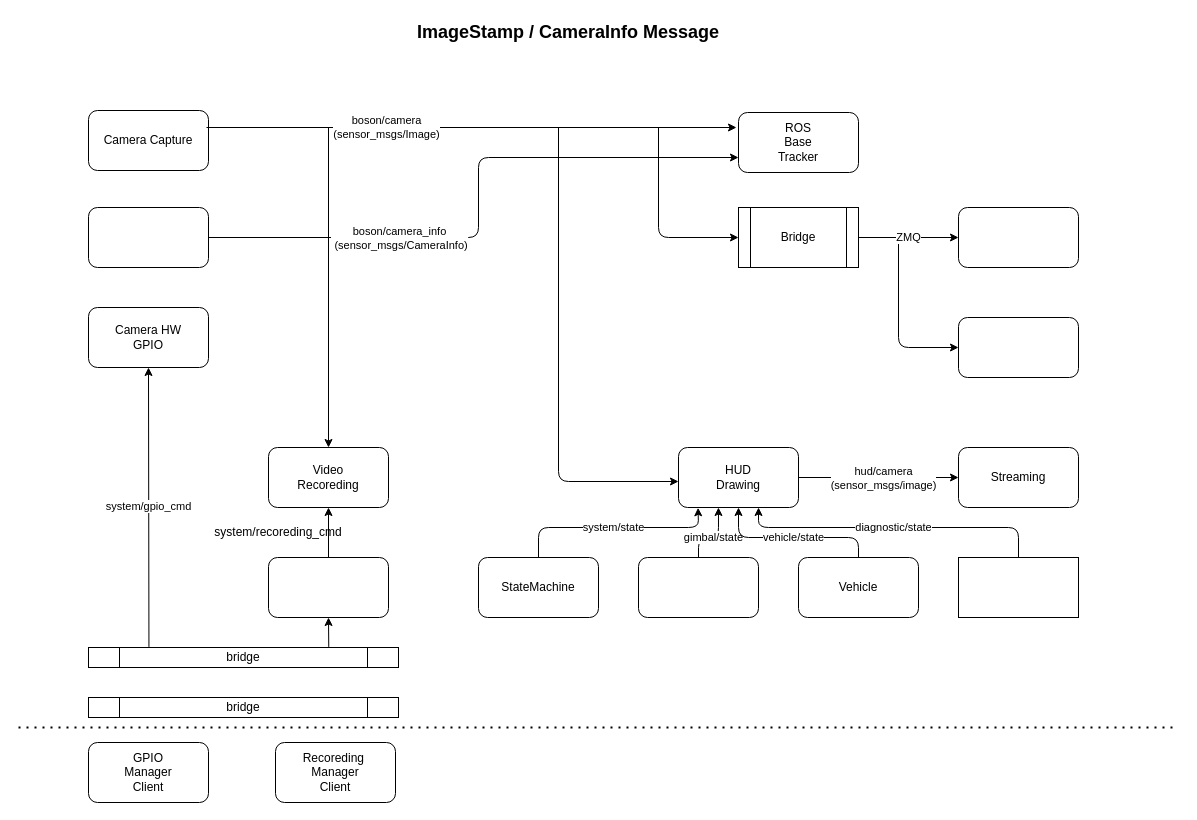
Image size: 1197x820. Some labels were removed from this diagram. Here are the shapes that lost their labels. From the top down, the centre of each, then its label:
the point at 148,237: Camera Control
the point at 1018,237: Exists Tracker
the point at 1018,347: Vision Consumer
the point at 328,587: Recoreding Manager
the point at 698,587: Gimbal
the point at 1018,587: Diagnostice
